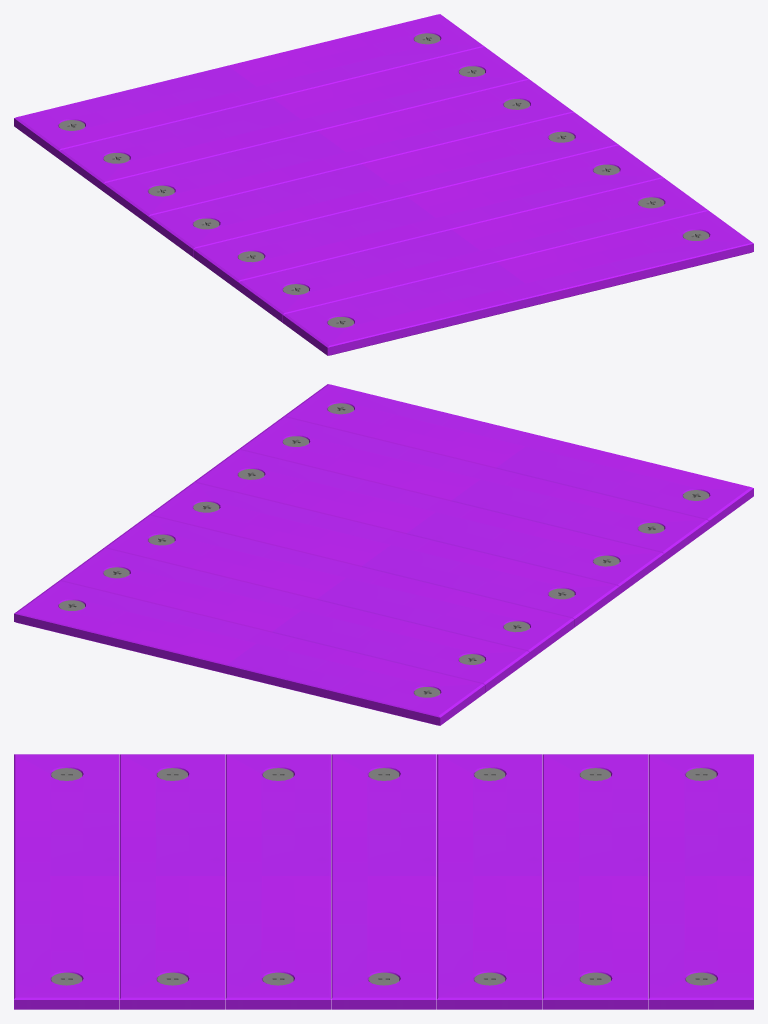
Rendered from BoltedPlankFloorPink.fbx.
The picture shows the model from 3 angles, top to bottom: view 1: azimuth 30°, elevation 25°; view 2: azimuth 150°, elevation 25°; view 3: azimuth 270°, elevation 25°; orthographic projection. The views are drawn at different scales.
Parts seen in each view (by area): view 1: Cube, Cube.001; view 2: Cube, Cube.001; view 3: Cube, Cube.001.
Part boxes in pixels (x1,y1,x2,y2): Cube: (14, 14, 753, 355); Cube.001: (58, 33, 709, 327); Cube: (14, 384, 753, 725); Cube.001: (58, 403, 709, 697); Cube: (14, 754, 753, 1009); Cube.001: (51, 768, 716, 985).
Bounding box in the file's own units: 21.97 × 0.4885 × 27.99.
